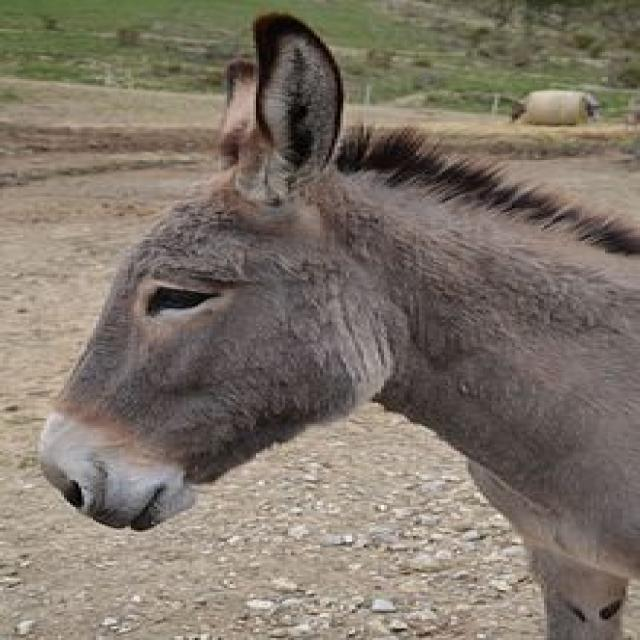Donkey: (35, 13, 640, 640)
